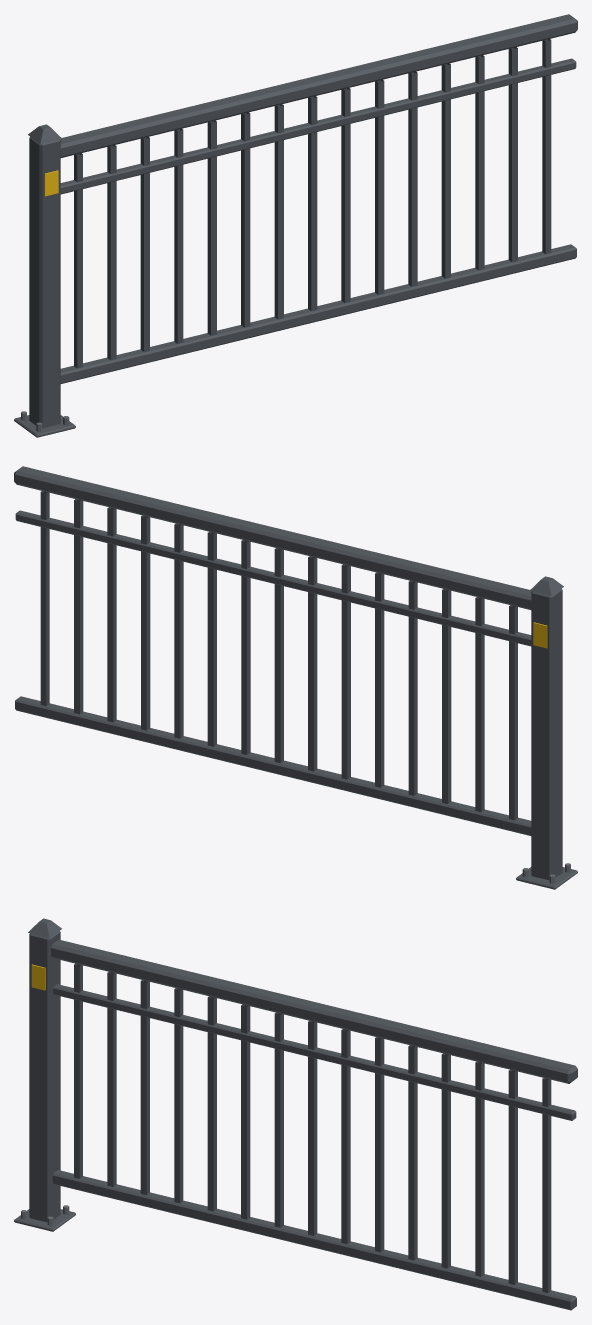
The model's file is SC_Str_Guardrail_2m.gltf.
The picture shows the model from 3 angles, top to bottom: view 1: azimuth 30°, elevation 25°; view 2: azimuth 150°, elevation 25°; view 3: azimuth 330°, elevation 25°; orthographic projection.
Parts seen in each view (by area): view 1: SC_Str_Guardrail_2m; view 2: SC_Str_Guardrail_2m; view 3: SC_Str_Guardrail_2m.
Boxes of the visible parts, x1,y1,x2,y2 form: SC_Str_Guardrail_2m: [14, 14, 577, 437]; SC_Str_Guardrail_2m: [14, 466, 577, 889]; SC_Str_Guardrail_2m: [14, 918, 577, 1310].
Size of the model in its own units: 2.06 by 1.06 by 0.15.
1 material, 1 textured.
